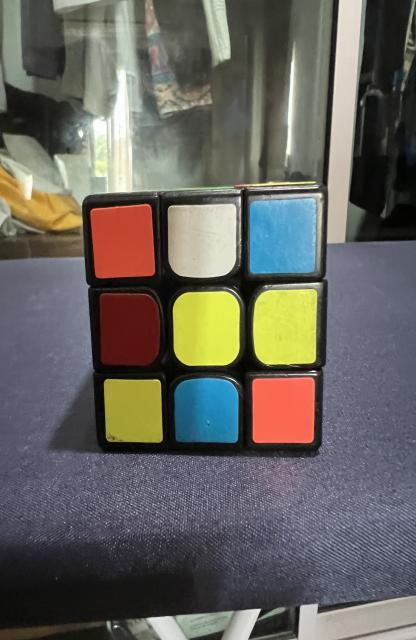Blue: (249, 198, 316, 274), (174, 378, 238, 442)
Orange: (90, 204, 155, 279), (252, 378, 315, 444)
Red: (100, 292, 160, 366)
White: (168, 204, 237, 278)
Yellow: (172, 291, 240, 366), (254, 289, 317, 365), (103, 379, 162, 442)
